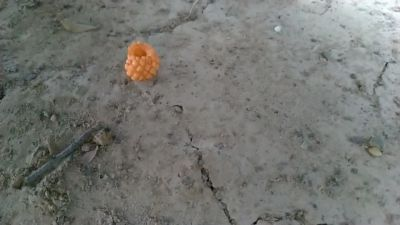eggs: (126, 38, 158, 85)
